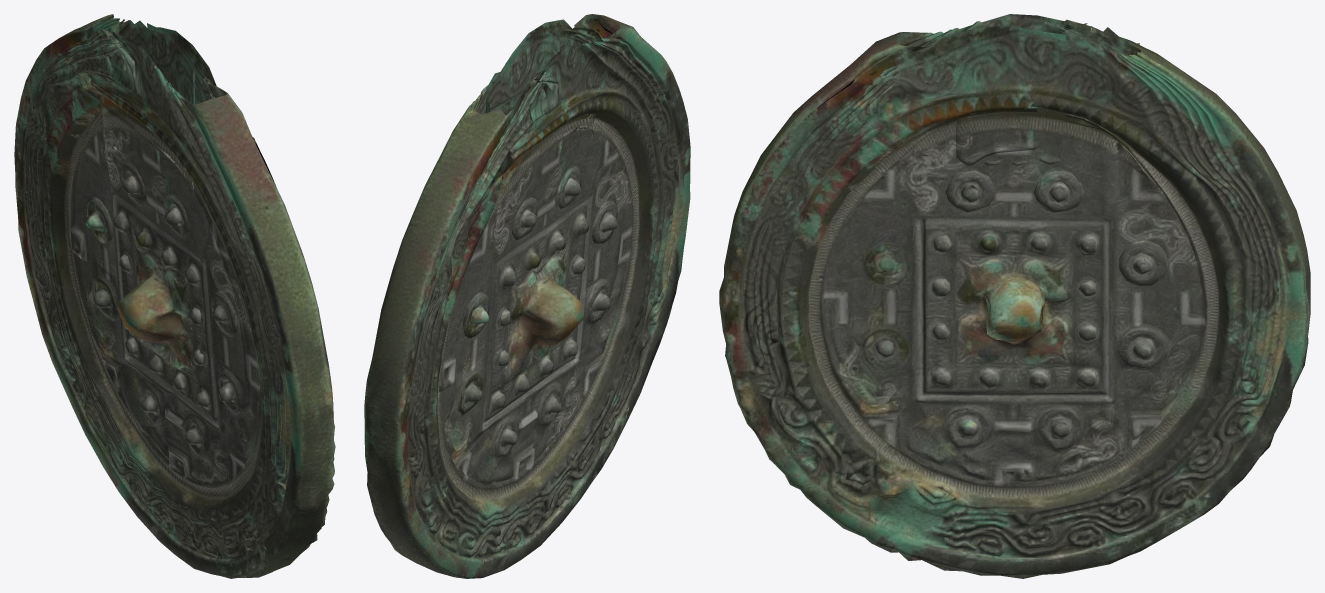
Rendered from han-tlv-guiju-mirror.glb.
3 views of the same model, side by side, from view 1: azimuth 30°, elevation 25°; view 2: azimuth 150°, elevation 25°; view 3: azimuth 270°, elevation 25° (orthographic). The views are drawn at different scales.
Size of the model in its own units: 0.1957 by 1.01 by 0.9981.
Materials: 1 (1 with a texture image).
